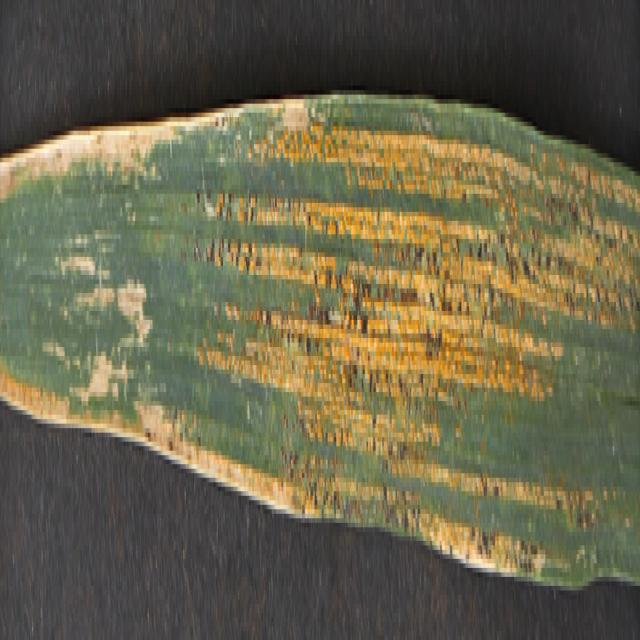leaf rust: (214, 90, 639, 505)
